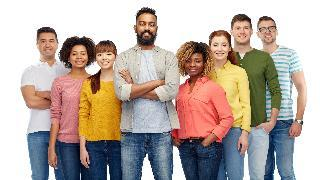person - v3 P: (114, 8, 179, 179), (172, 42, 233, 179), (231, 14, 281, 179), (257, 16, 307, 179), (21, 27, 69, 179), (48, 37, 95, 179), (209, 31, 251, 179), (79, 41, 122, 179)
